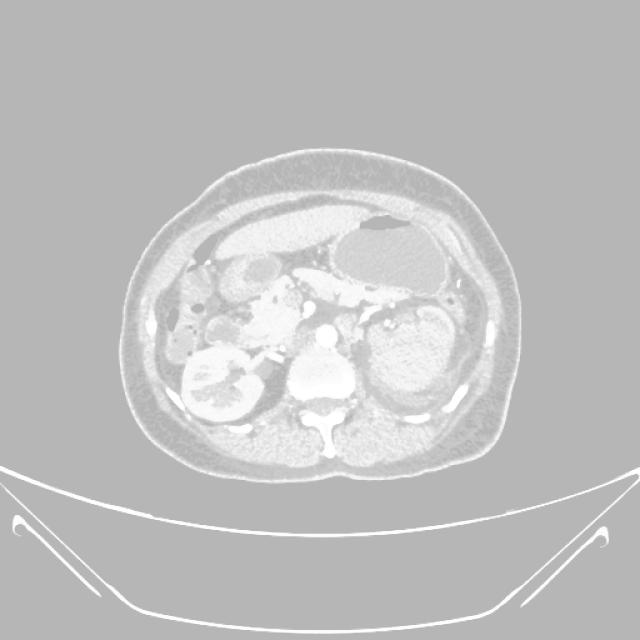TUMOR: (141, 161, 452, 372)
